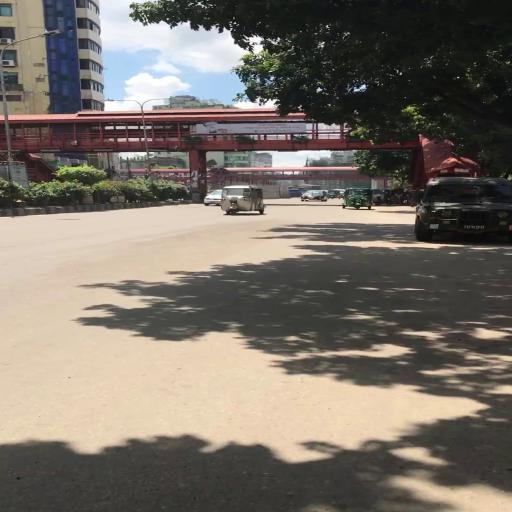car: (203, 189, 224, 207), (301, 190, 329, 202)
suv: (415, 177, 511, 244)
three wheelers (CNG): (219, 185, 268, 216), (342, 188, 374, 211), (372, 189, 390, 206), (328, 190, 342, 200)
